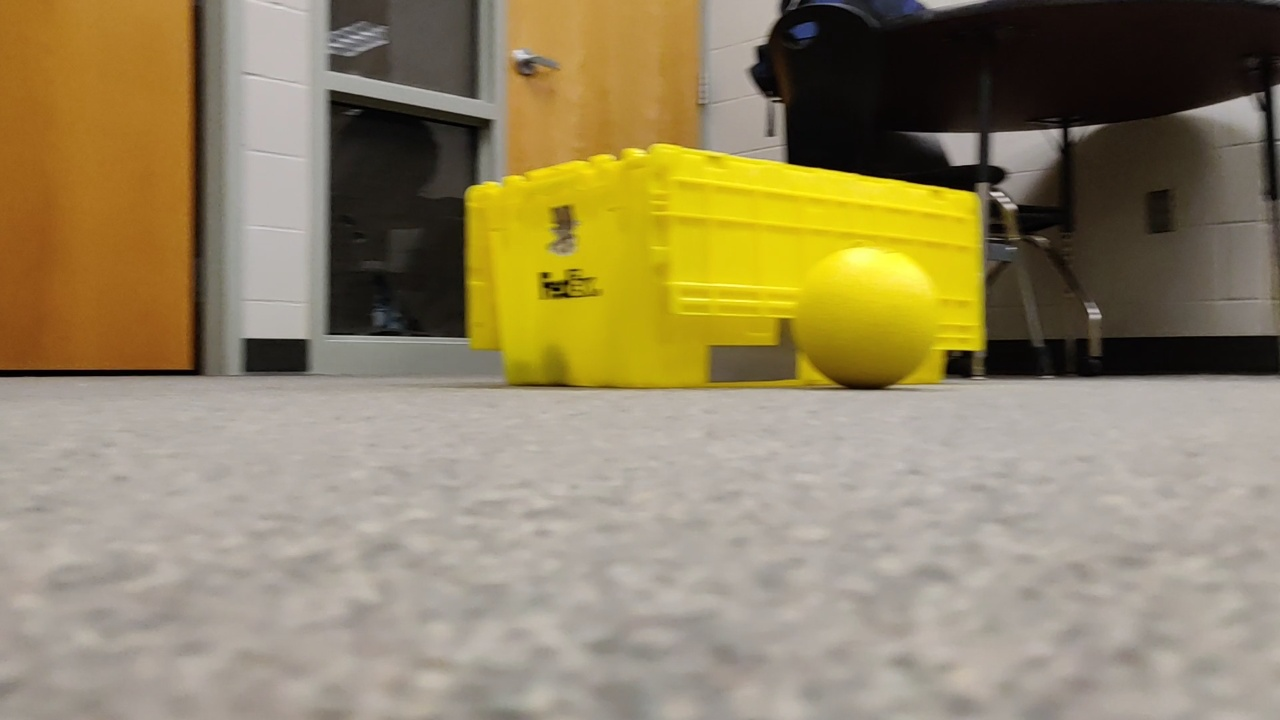Ball: (794, 243, 941, 384)
